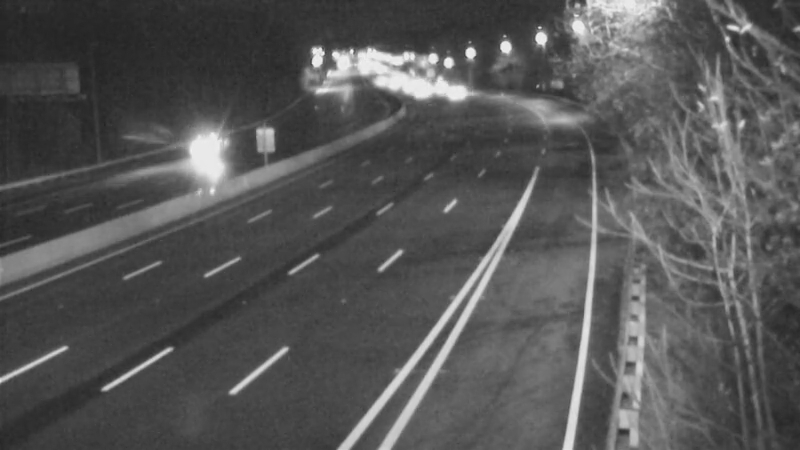vehicle: (178, 123, 228, 173)
